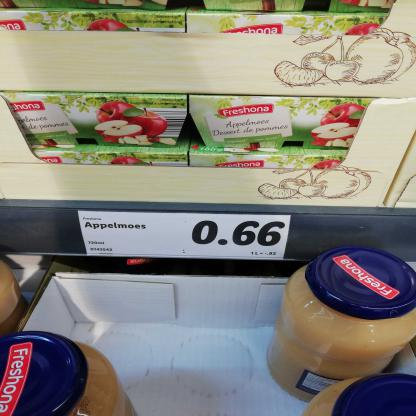prtg: (79, 211, 292, 260)
